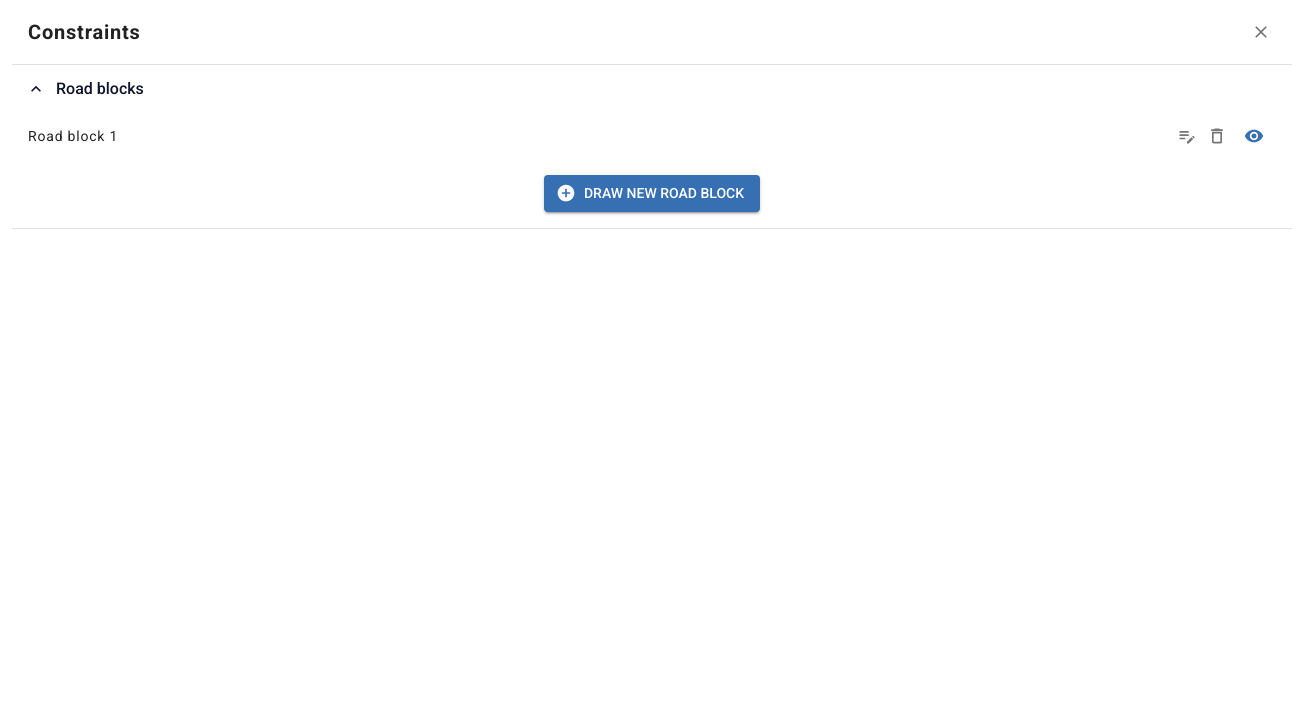
Test: ConstraintsView › Error Handling › shows error snackbar when visibility update fails
What coordinates should you click on to do the following:
click the button named "Hide constraint"
I would click on:
 (1254, 136)
Its box is [1240, 122, 1268, 150].
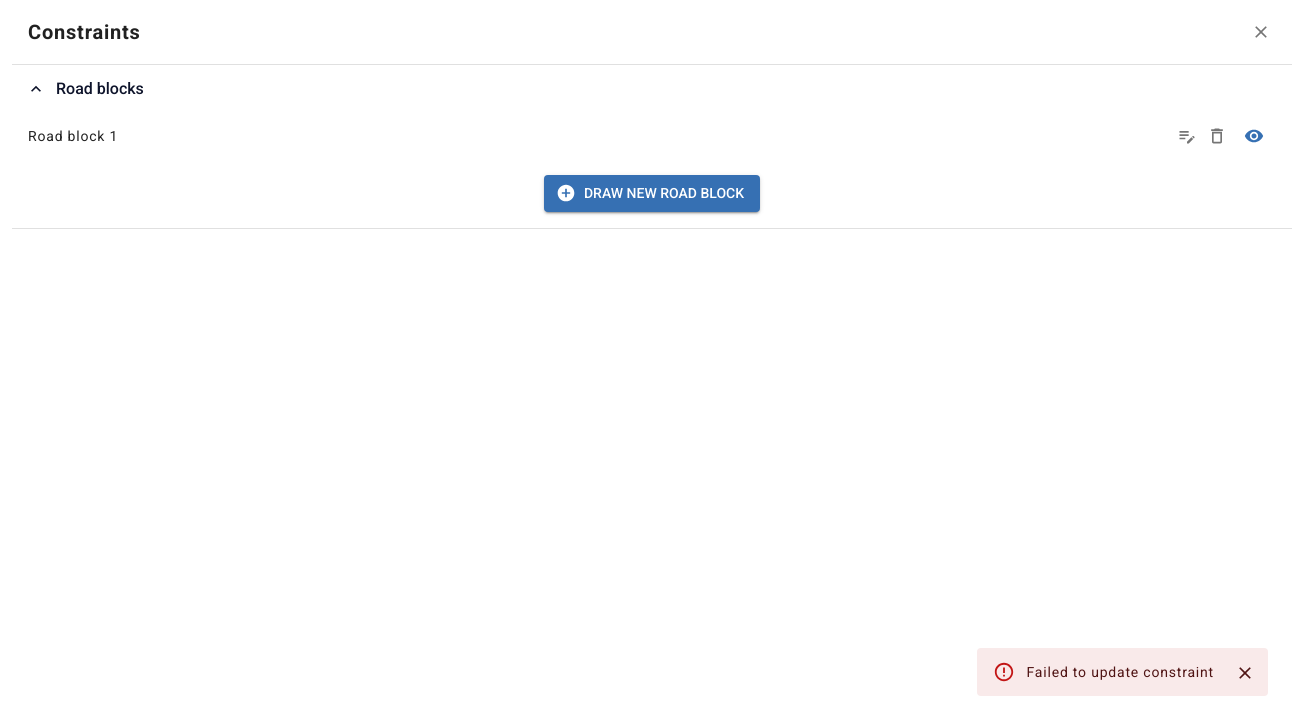
Expected: the text "Failed to update constraint" is shown, [1026, 664, 1214, 680]
